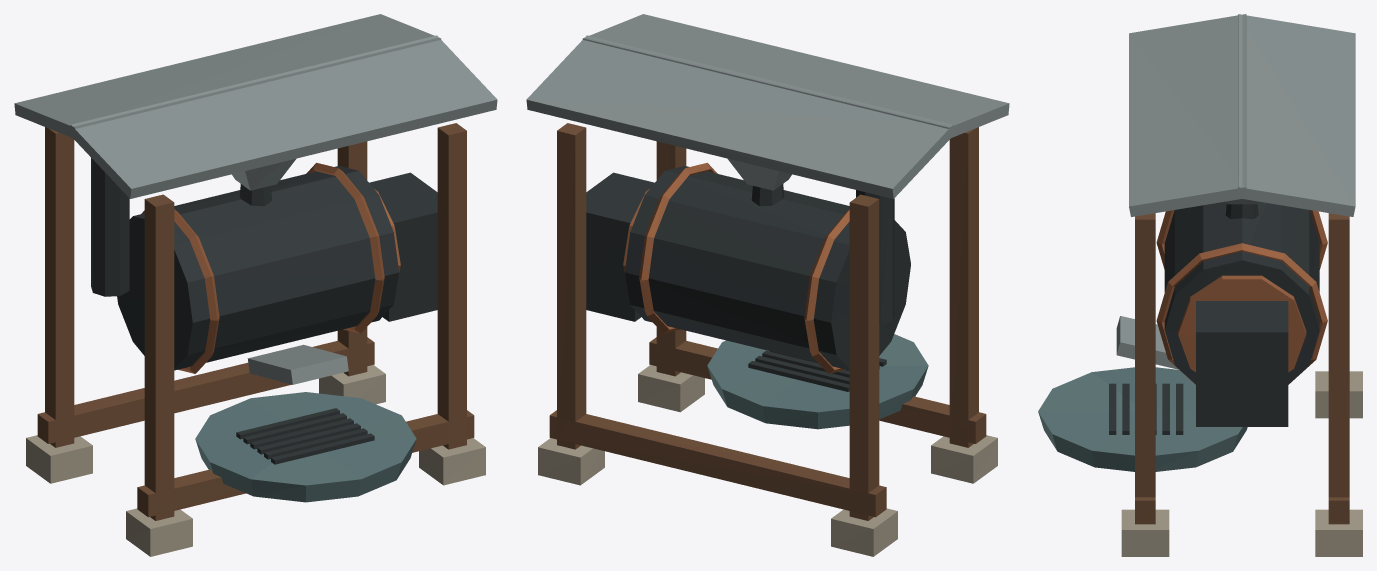
The model's file is Roastery.glb.
3 views of the same model, side by side, from view 1: azimuth 30°, elevation 25°; view 2: azimuth 150°, elevation 25°; view 3: azimuth 270°, elevation 25° (orthographic). The views are drawn at different scales.
Visible parts, largest first — view 1: roastery-static-roastery-muted-galvanized-mat, roastery-static-roastery-dark-iron-mat, roastery-static-roastery-warm-timber-mat, roastery-static-roastery-blue-grey-tray-mat, roastery-static-roastery-warm-stone-mat, roastery-static-roastery-restrained-copper-mat; view 2: roastery-static-roastery-muted-galvanized-mat, roastery-static-roastery-dark-iron-mat, roastery-static-roastery-warm-timber-mat, roastery-static-roastery-blue-grey-tray-mat, roastery-static-roastery-warm-stone-mat, roastery-static-roastery-restrained-copper-mat; view 3: roastery-static-roastery-muted-galvanized-mat, roastery-static-roastery-dark-iron-mat, roastery-static-roastery-warm-timber-mat, roastery-static-roastery-blue-grey-tray-mat, roastery-static-roastery-restrained-copper-mat, roastery-static-roastery-warm-stone-mat.
Part boxes in pixels (left/top/right/bottom): roastery-static-roastery-muted-galvanized-mat: left=14, top=14, right=497, bottom=384; roastery-static-roastery-dark-iron-mat: left=91, top=158, right=437, bottom=464; roastery-static-roastery-warm-timber-mat: left=37, top=123, right=474, bottom=520; roastery-static-roastery-blue-grey-tray-mat: left=195, top=392, right=416, bottom=502; roastery-static-roastery-warm-stone-mat: left=26, top=365, right=485, bottom=556; roastery-static-roastery-restrained-copper-mat: left=141, top=162, right=400, bottom=373; roastery-static-roastery-muted-galvanized-mat: left=526, top=14, right=1009, bottom=198; roastery-static-roastery-dark-iron-mat: left=586, top=166, right=910, bottom=391; roastery-static-roastery-warm-timber-mat: left=549, top=123, right=986, bottom=520; roastery-static-roastery-blue-grey-tray-mat: left=707, top=334, right=928, bottom=429; roastery-static-roastery-warm-stone-mat: left=538, top=365, right=997, bottom=556; roastery-static-roastery-restrained-copper-mat: left=623, top=162, right=849, bottom=373; roastery-static-roastery-muted-galvanized-mat: left=1116, top=14, right=1355, bottom=369; roastery-static-roastery-dark-iron-mat: left=1109, top=201, right=1319, bottom=434; roastery-static-roastery-warm-timber-mat: left=1135, top=213, right=1349, bottom=524; roastery-static-roastery-blue-grey-tray-mat: left=1038, top=367, right=1247, bottom=471; roastery-static-roastery-restrained-copper-mat: left=1156, top=210, right=1327, bottom=384; roastery-static-roastery-warm-stone-mat: left=1121, top=371, right=1362, bottom=556.
Size of the model in its own units: 2.75 by 2.79 by 2.18.
